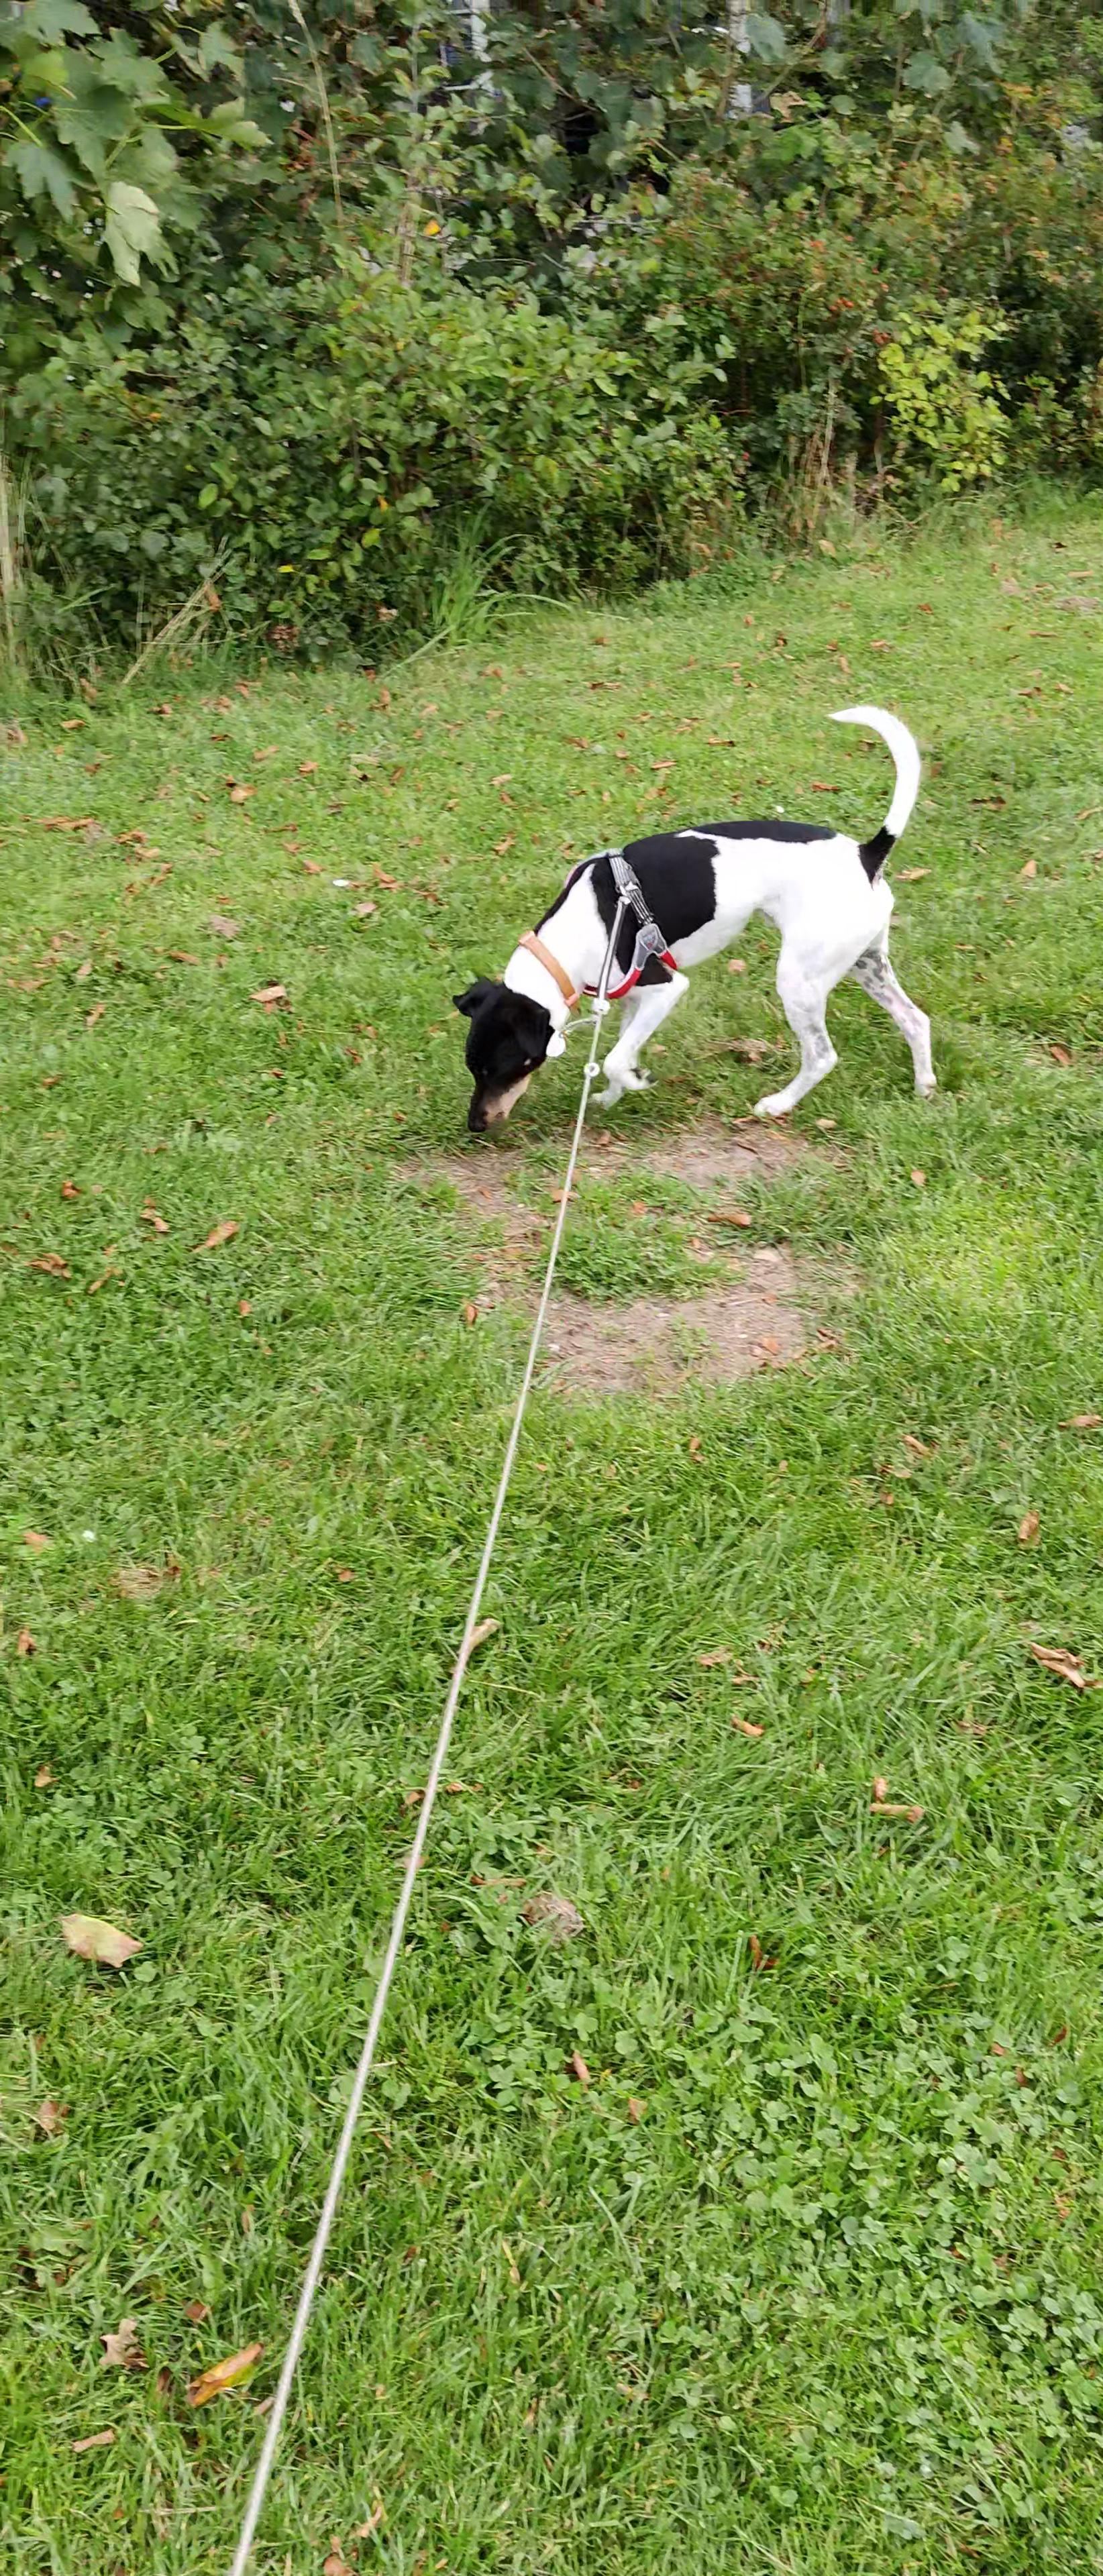Dog: (442, 692, 981, 1143)
